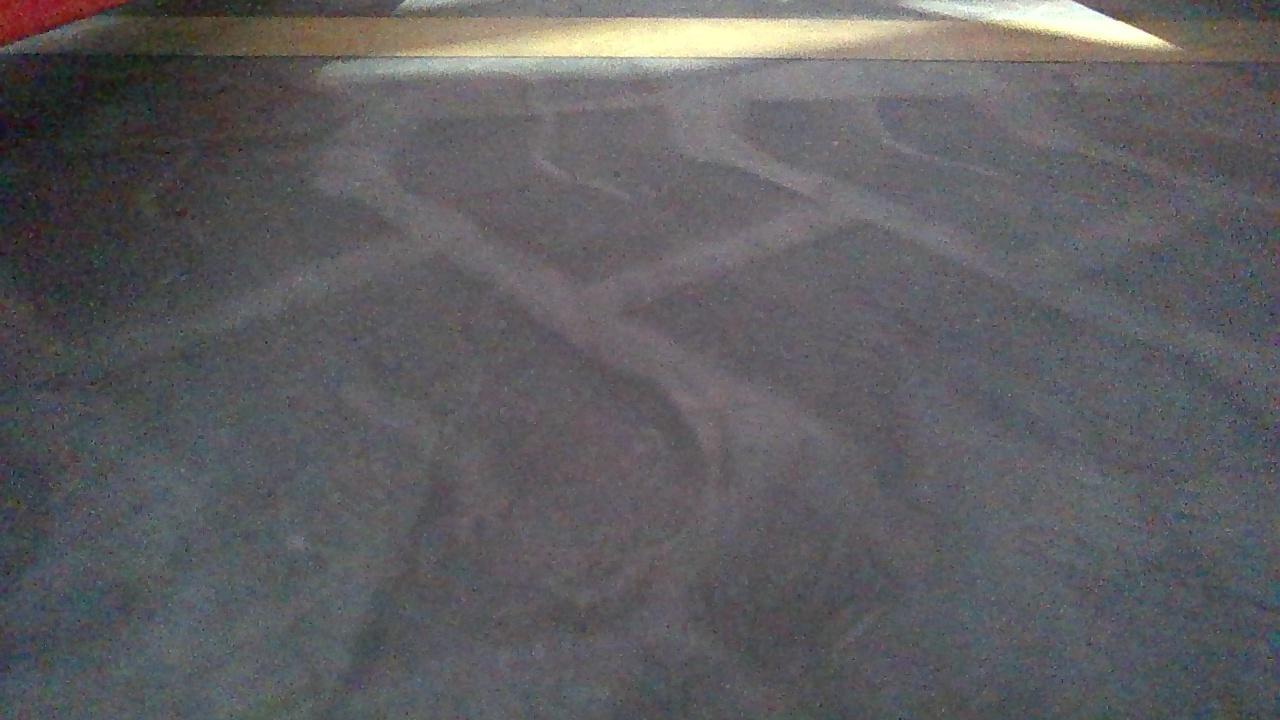yellow_line: (20, 15, 1280, 57)
